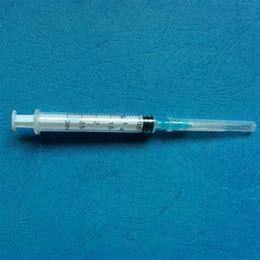Syringe: (3, 100, 260, 150)
